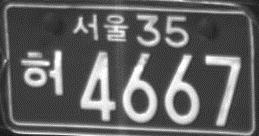3: (134, 12, 161, 47)
4: (77, 49, 117, 123)
5: (162, 14, 190, 49)
6: (161, 52, 201, 124), (120, 50, 158, 123)
7: (205, 52, 242, 130)
서울_O: (72, 12, 130, 42)
허: (19, 47, 64, 98)
